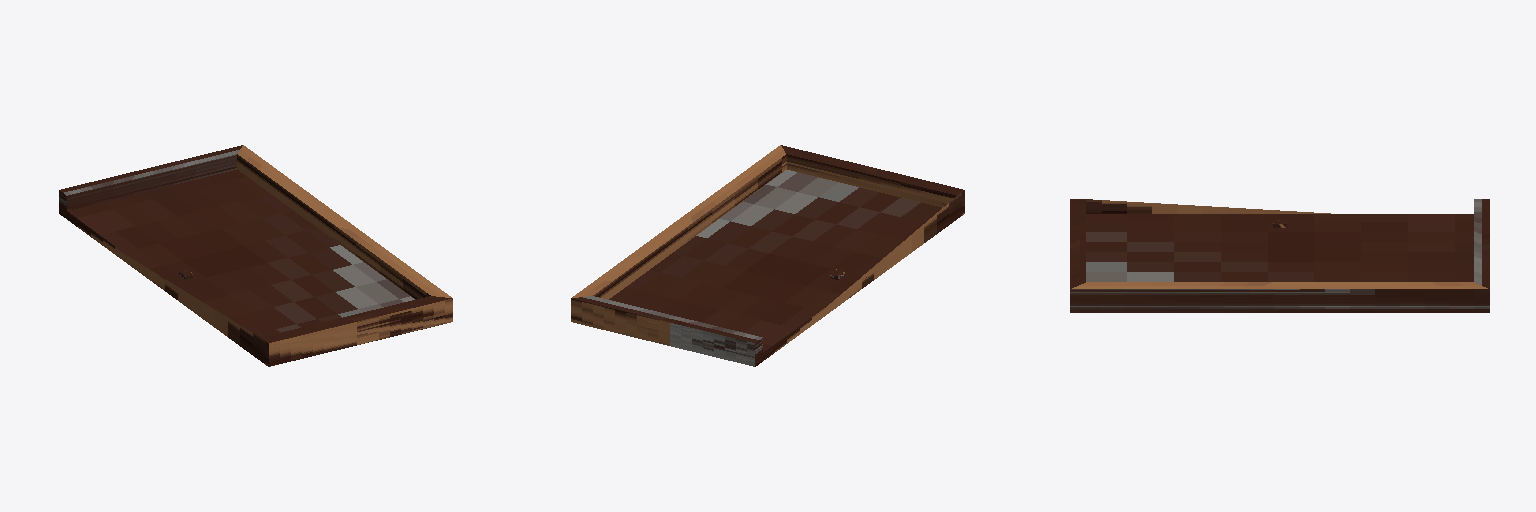
3 views of the same model, side by side, from view 1: azimuth 30°, elevation 25°; view 2: azimuth 150°, elevation 25°; view 3: azimuth 270°, elevation 25° (orthographic).
Visible parts, largest first — view 1: TrampillaPDerecha_Cube.268; view 2: TrampillaPDerecha_Cube.268; view 3: TrampillaPDerecha_Cube.268.
Boxes of the visible parts, x1=… form: TrampillaPDerecha_Cube.268: x1=59, y1=145, x2=452, y2=366; TrampillaPDerecha_Cube.268: x1=571, y1=145, x2=964, y2=366; TrampillaPDerecha_Cube.268: x1=1070, y1=199, x2=1489, y2=312.
Size of the model in its own units: 0.6673 by 0.0819 by 1.31.
Materials: 1 (1 with a texture image).